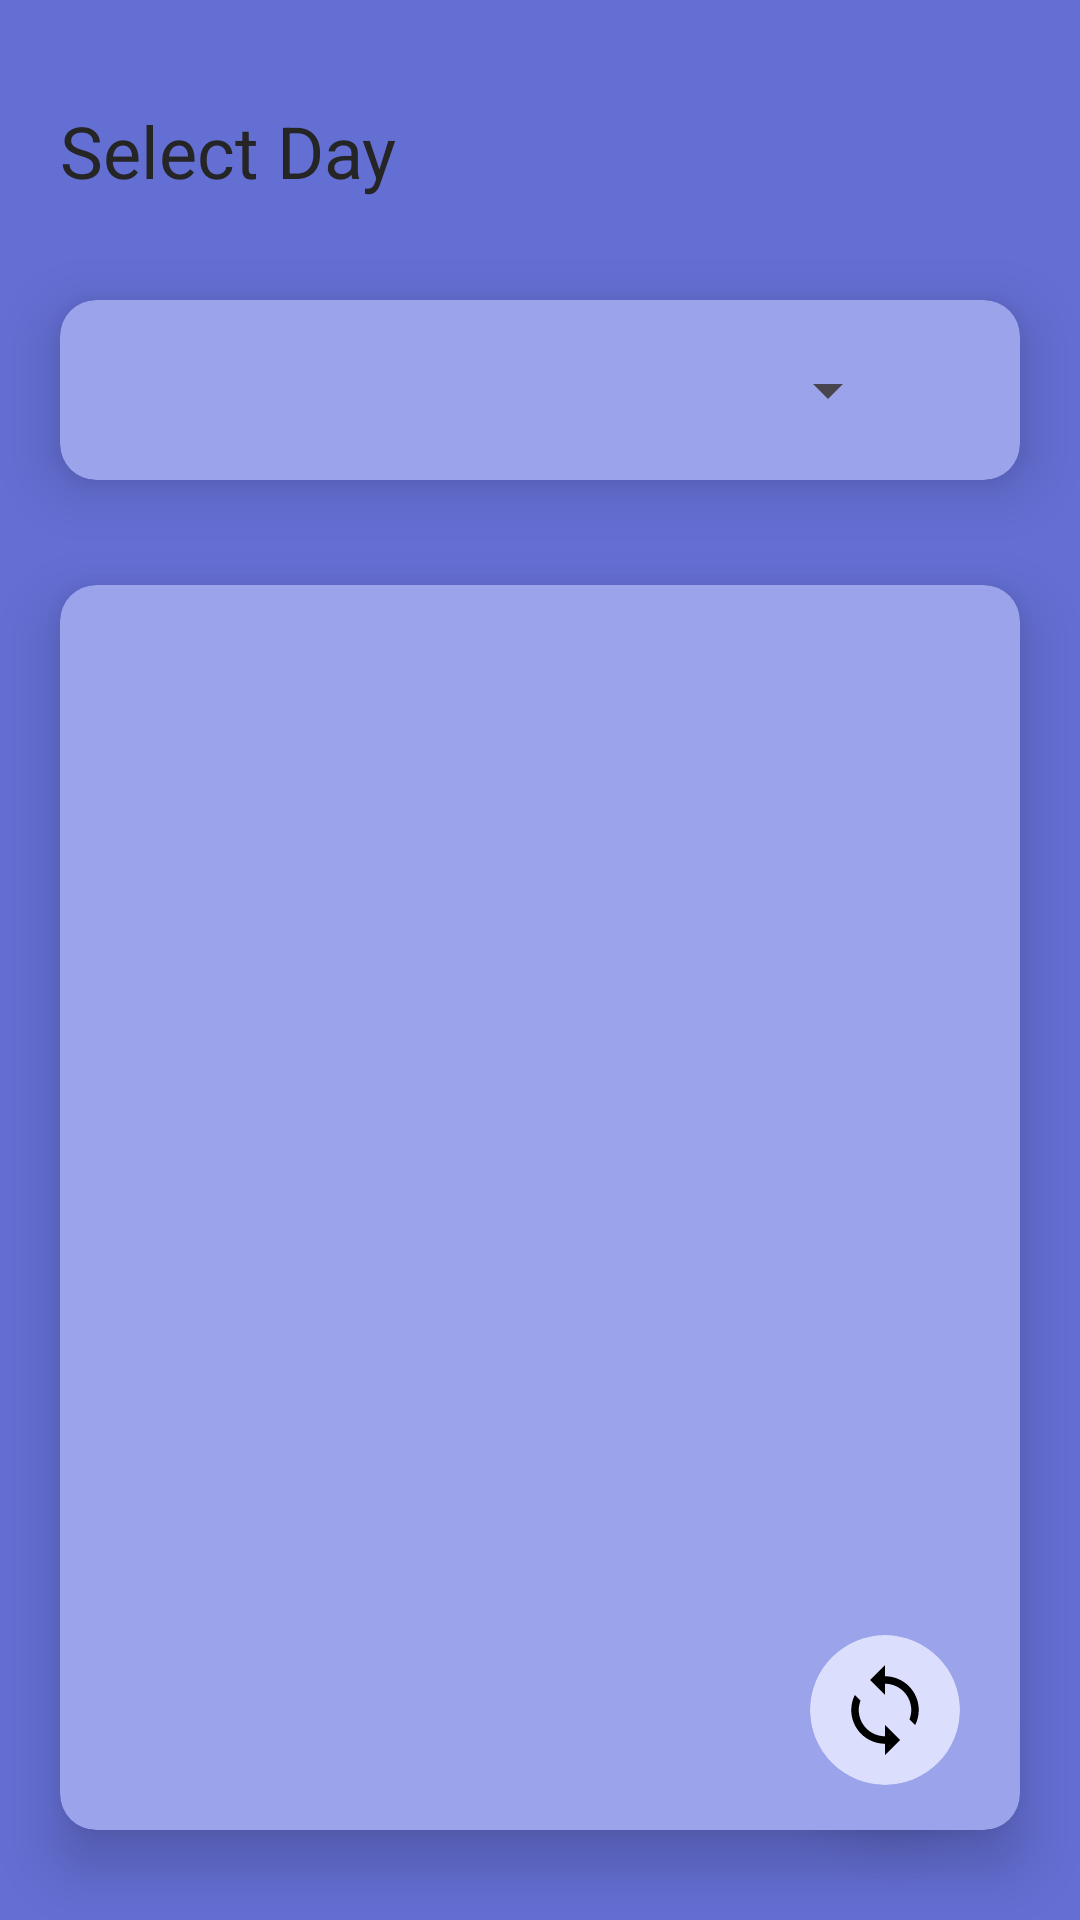

Icon click points for this 1080w x 1920h phone screenshot, format (x,y):
reload: (885,1710)
